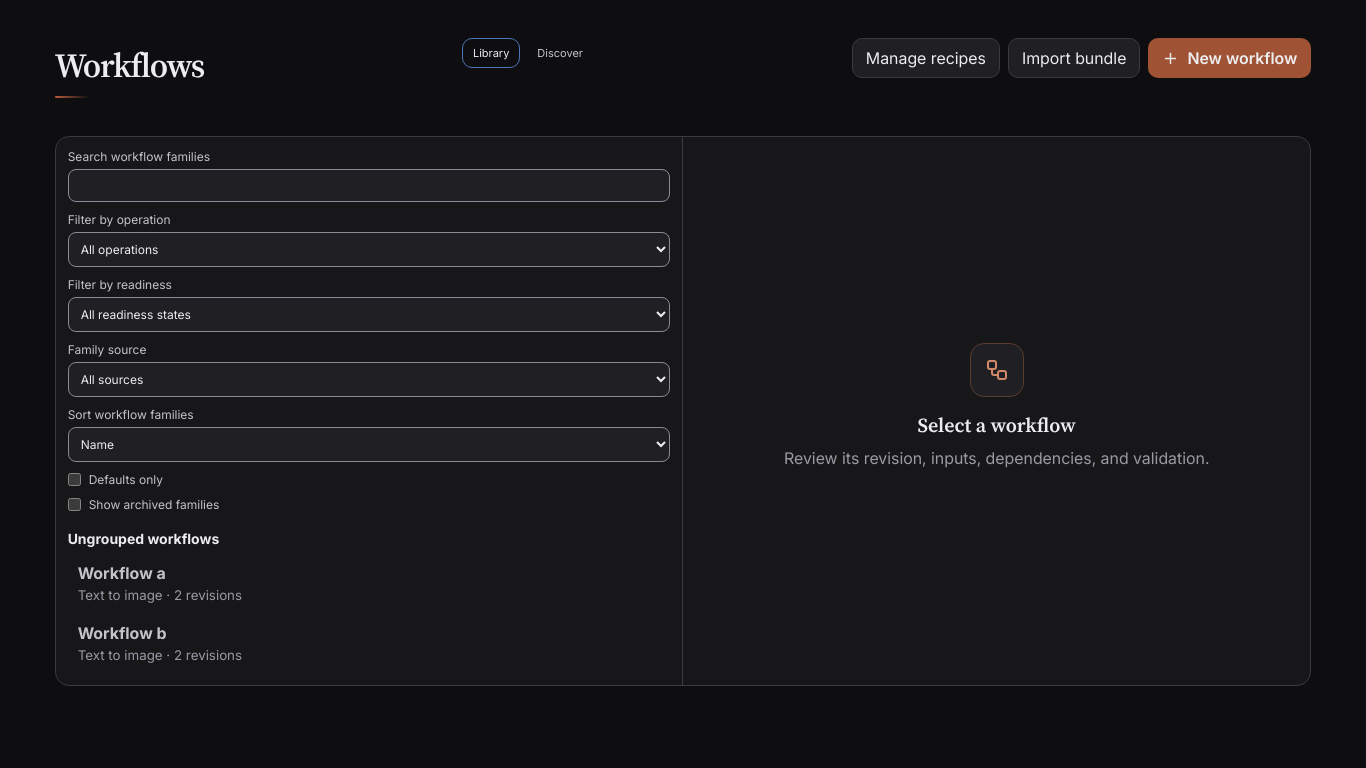
Test: does not display a late result after switching the selected workflow
What coordinates should you click on to do the following:
click the text "Workflow a"
I would click on:
 (122, 573)
Its box is [78,563,166,583].
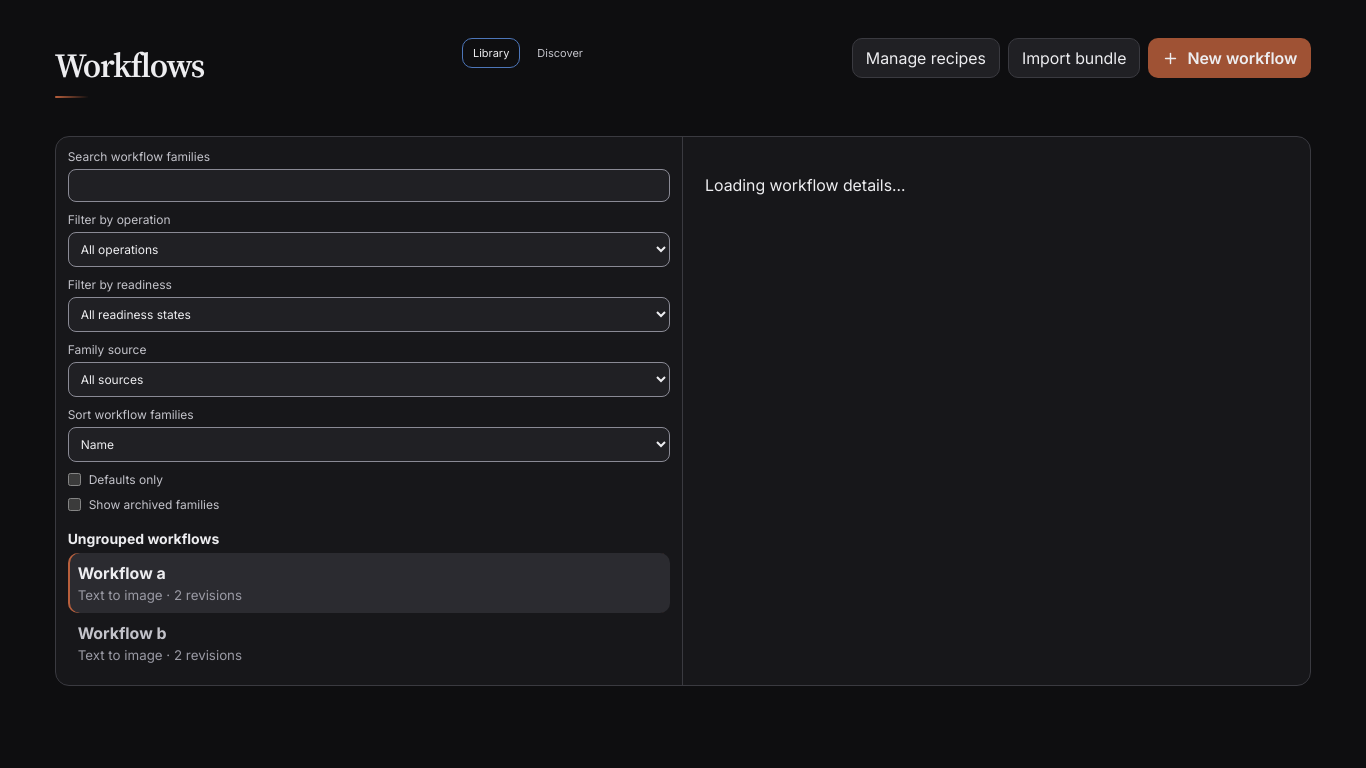
Now the text "Loading workflow details…" is shown, box [705,175,906,195]
What coordinates should you click on to do the following:
click the text "Workflow b"
I would click on:
 (122, 633)
Its box is [78,623,166,643].
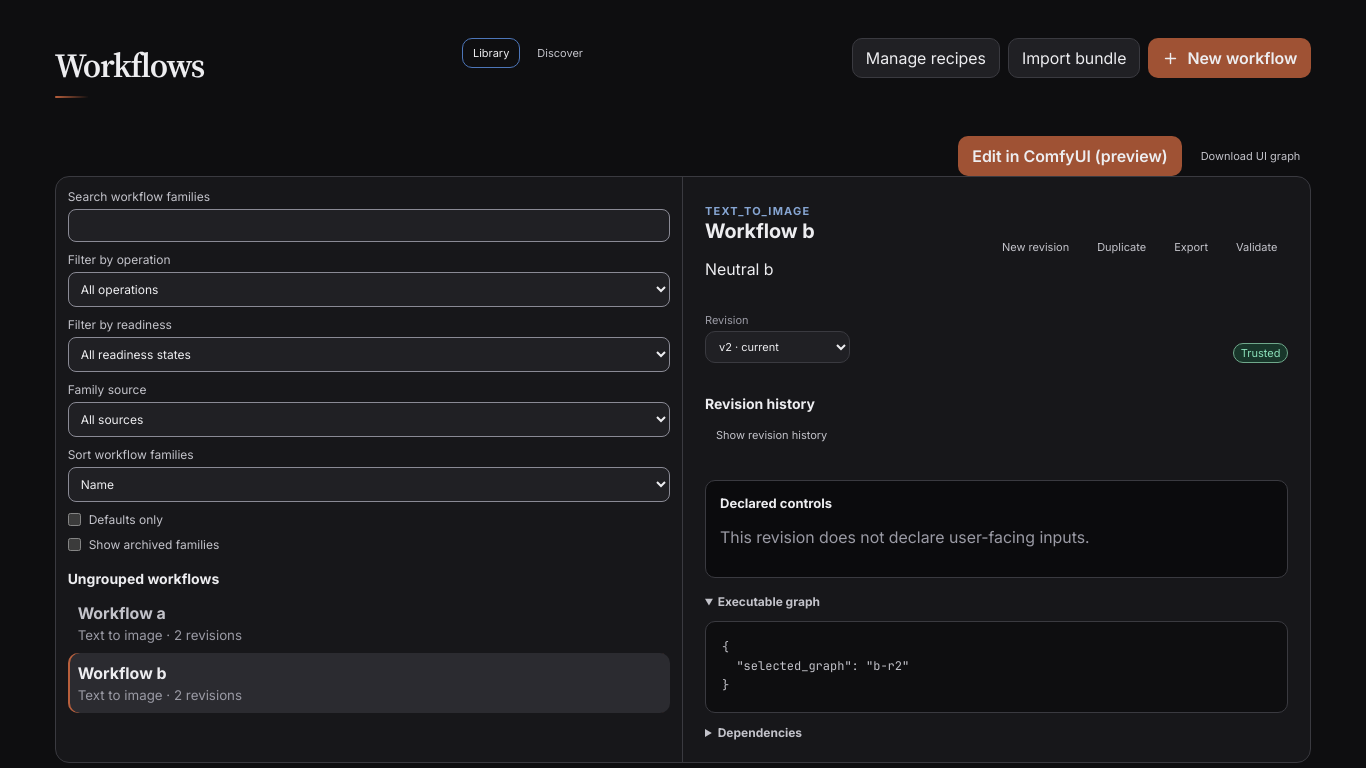
Now the text "{ \"selected_graph\": \"b-r2\" }" is shown, box [705,621,1288,713]
Now the heading "Workflow b" is shown, box [705,219,815,243]
